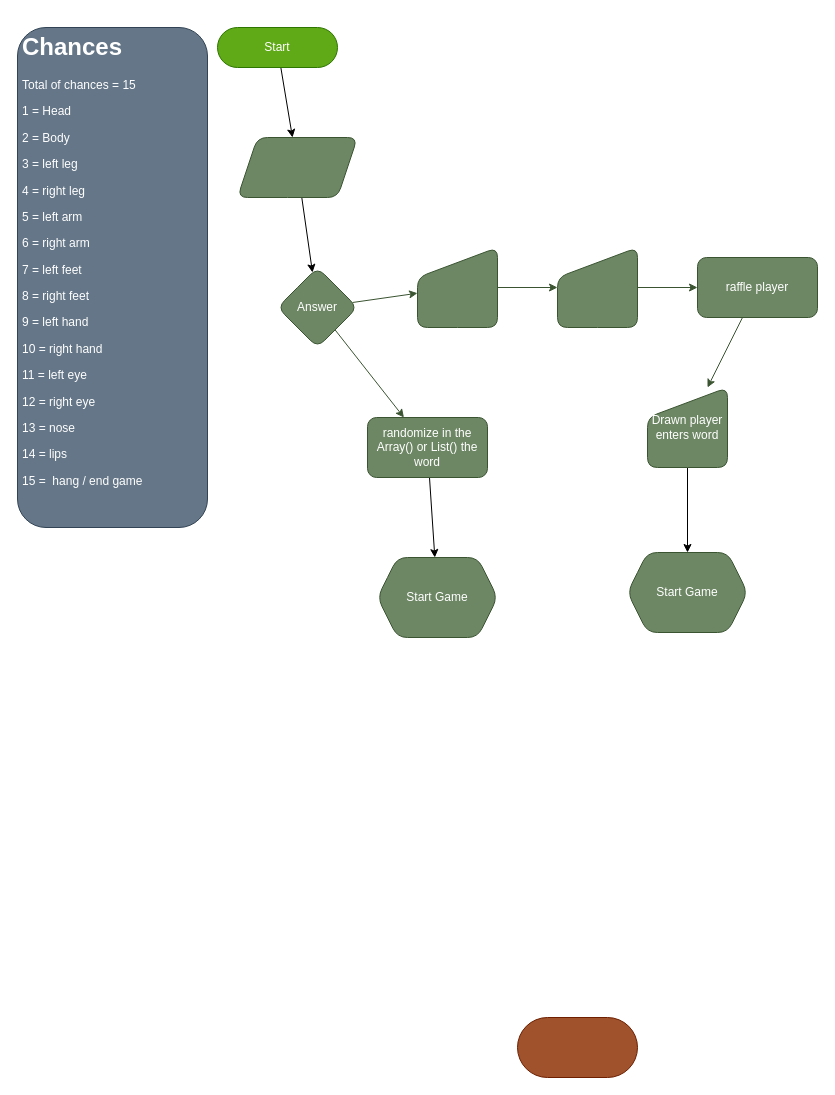
Some shapes in this 835 by 1095 pixel diagram are drawn without their labels. Here are the shapes that lost their labels. From the top down, the centre of each, then its label:
(297,167): Single player? or Multiplayer?
(457,287): Player 1 Name
(597,287): Player 2 Name
(577,1047): End
